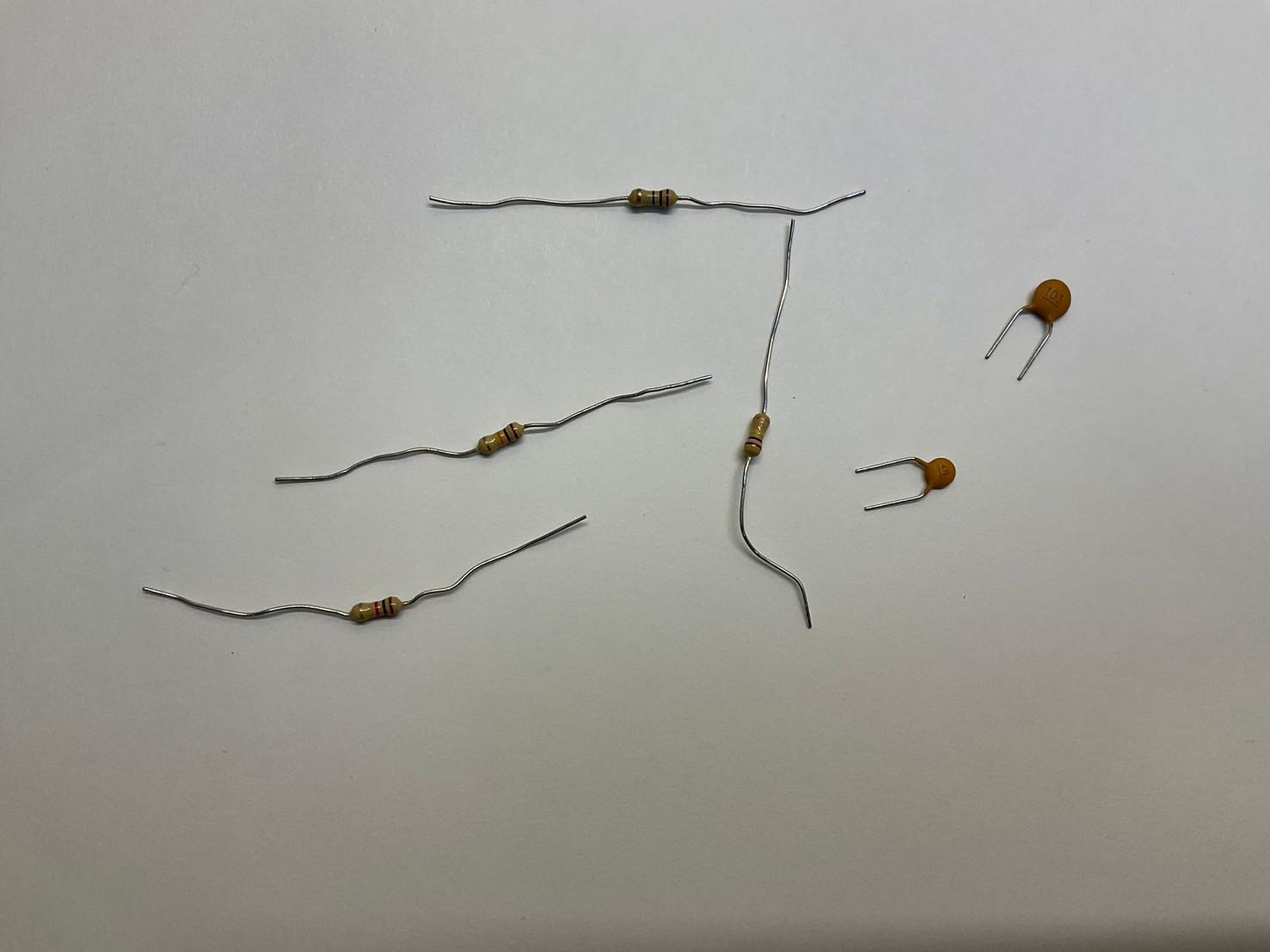resistor: (472, 421, 526, 456), (349, 596, 403, 624), (742, 412, 772, 459), (629, 186, 678, 210)
